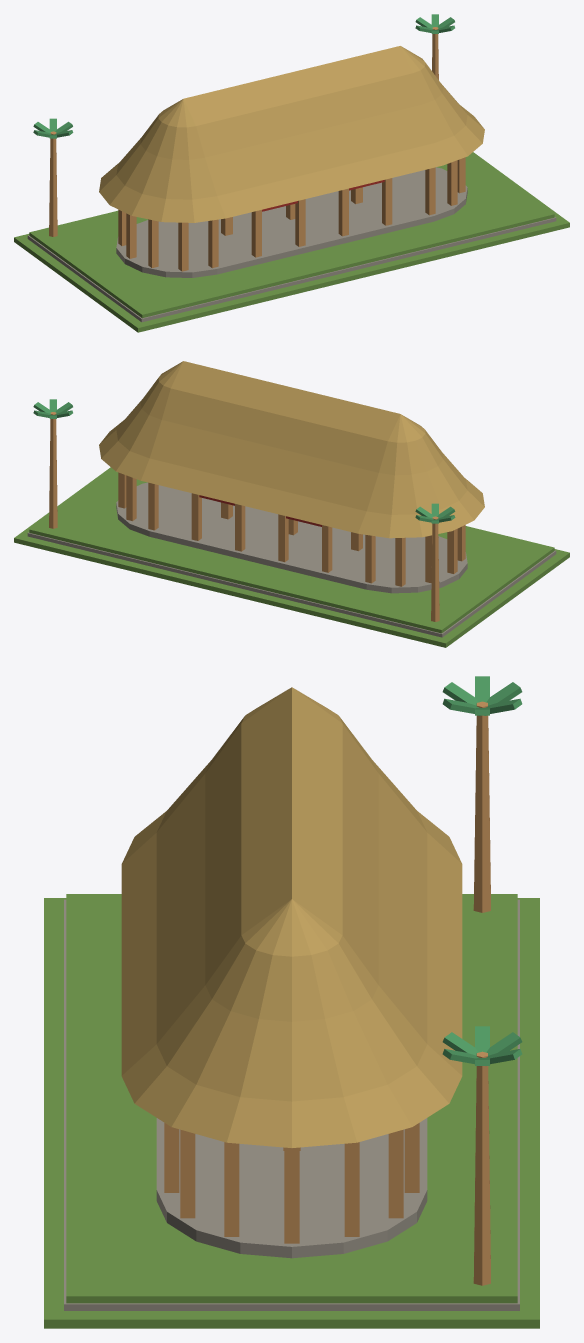
The model's file is house-2x1-2f-fale-a.glb.
The picture shows the model from 3 angles, top to bottom: view 1: azimuth 30°, elevation 25°; view 2: azimuth 150°, elevation 25°; view 3: azimuth 270°, elevation 25°; orthographic projection. The views are drawn at different scales.
Visible parts, largest first — view 1: house-2x1-2f-fale-a; view 2: house-2x1-2f-fale-a; view 3: house-2x1-2f-fale-a.
Boxes of the visible parts, <box> form: house-2x1-2f-fale-a: <box>14,14,569,332</box>; house-2x1-2f-fale-a: <box>14,361,569,647</box>; house-2x1-2f-fale-a: <box>44,676,539,1328</box>.
Size of the model in its own units: 1.99 by 0.715 by 0.99.
1 material, 1 textured.
